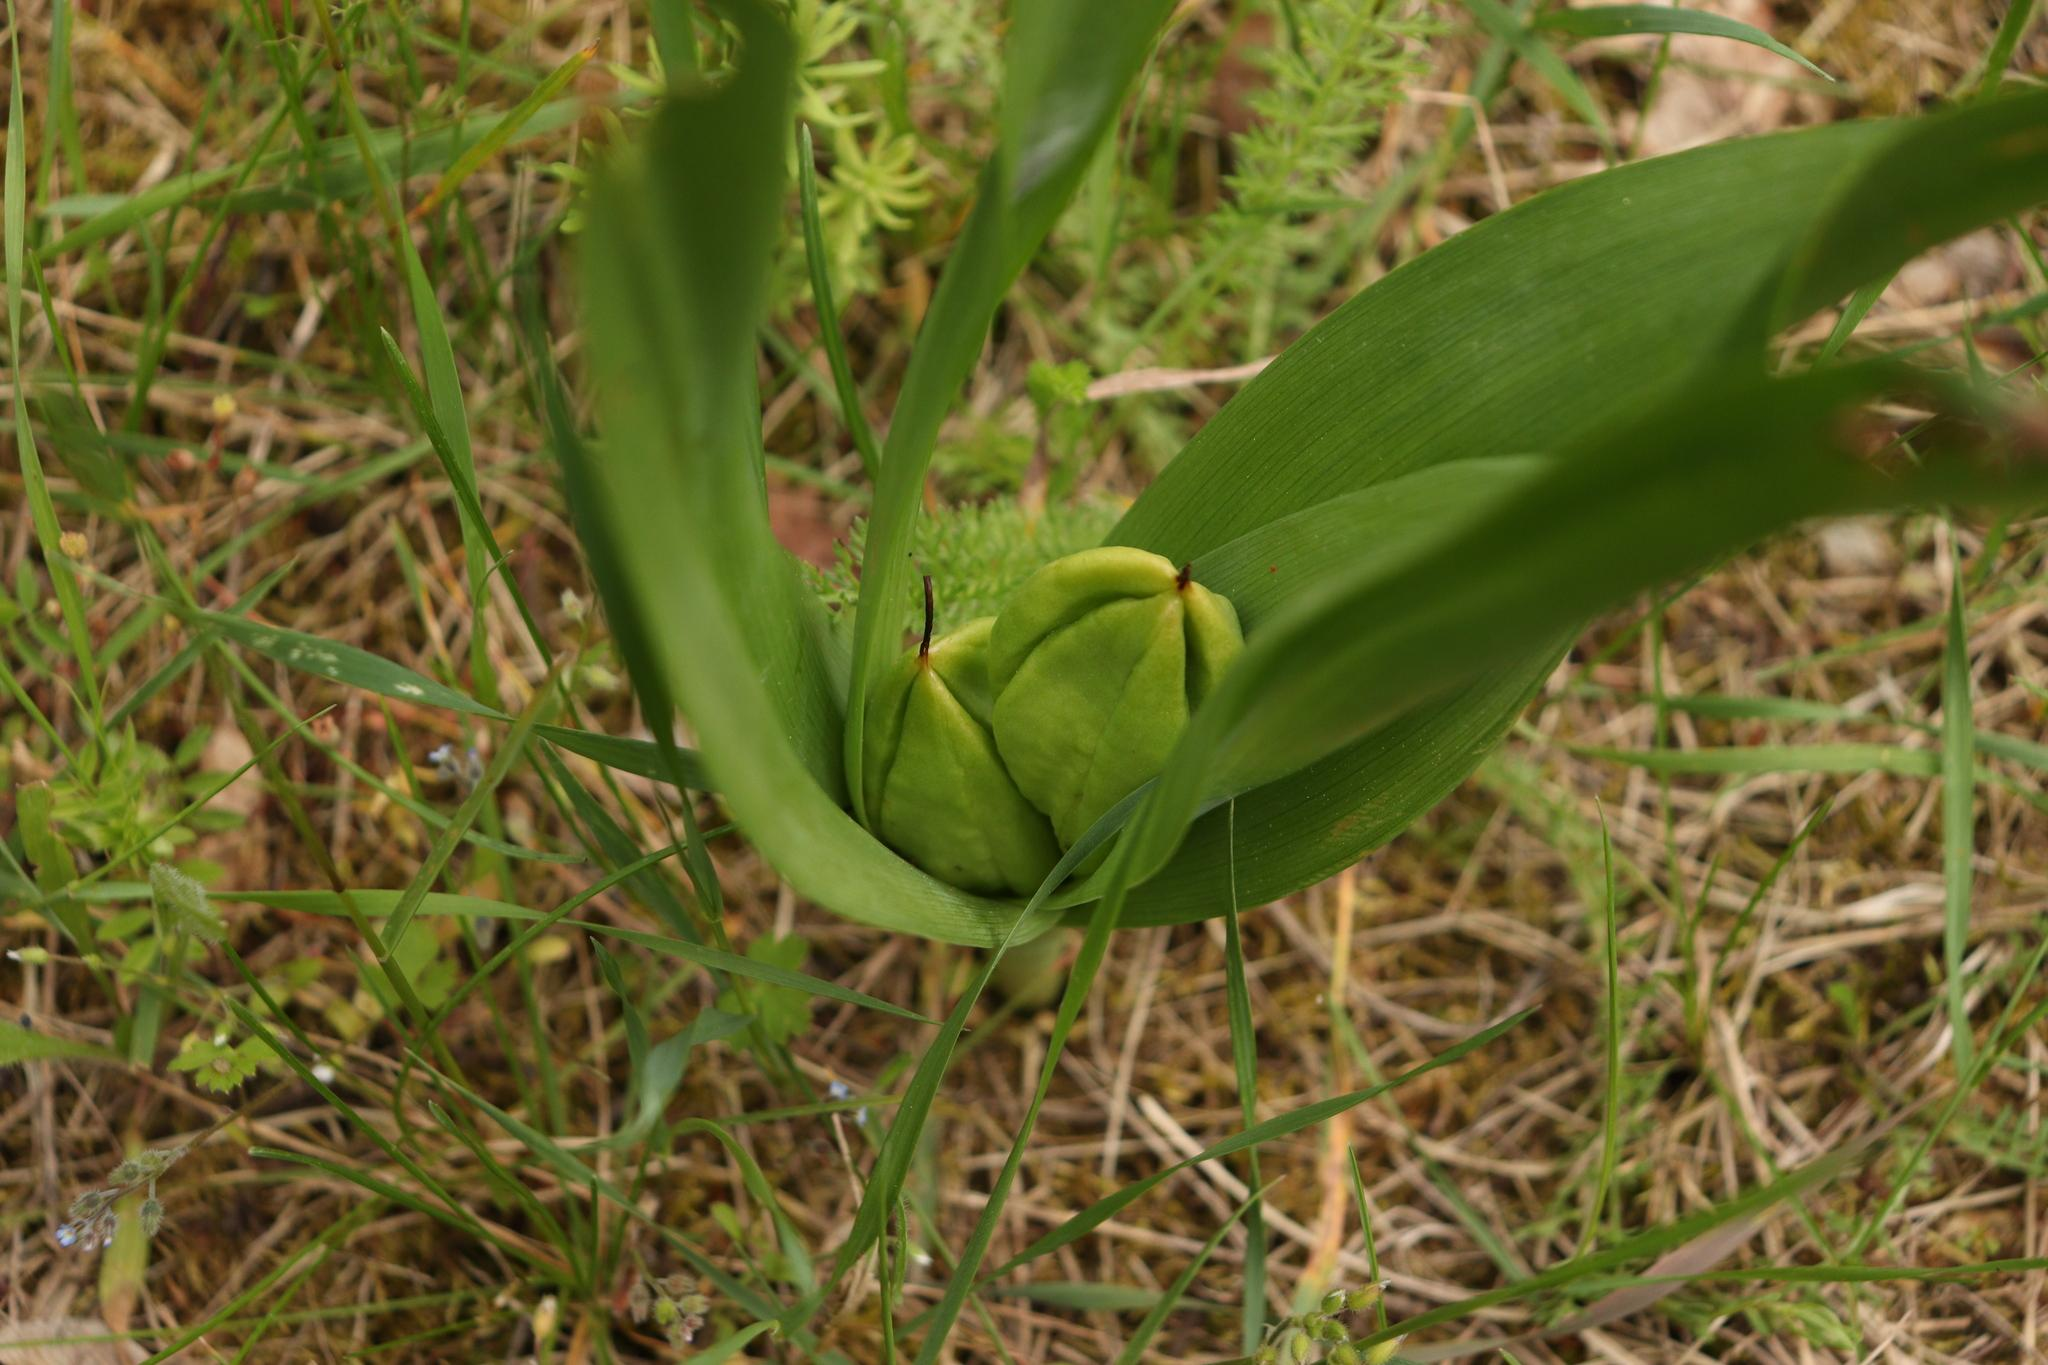Colchicum autumnale L: (527, 0, 2048, 1016)
